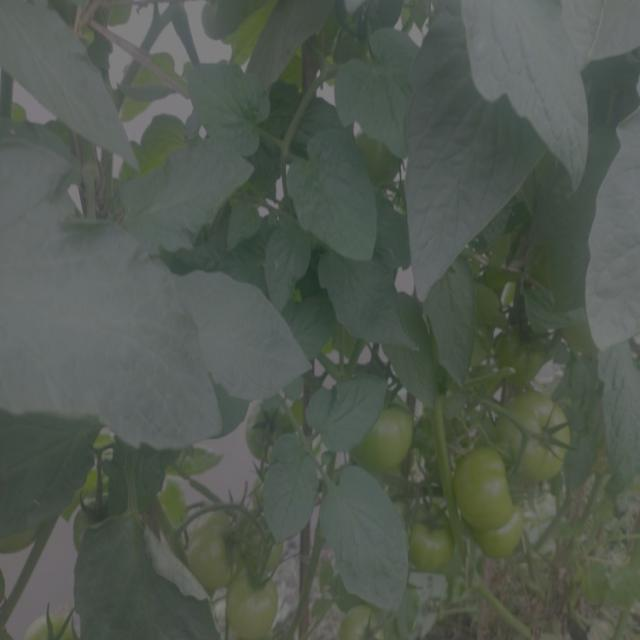tomato: (504, 397, 575, 477), (451, 444, 515, 531), (355, 393, 418, 480), (492, 314, 556, 388), (184, 508, 234, 590), (229, 570, 281, 640), (244, 393, 298, 458), (413, 505, 458, 574), (361, 130, 407, 189), (242, 521, 290, 575), (20, 608, 81, 640), (481, 524, 526, 559), (343, 601, 383, 640)
